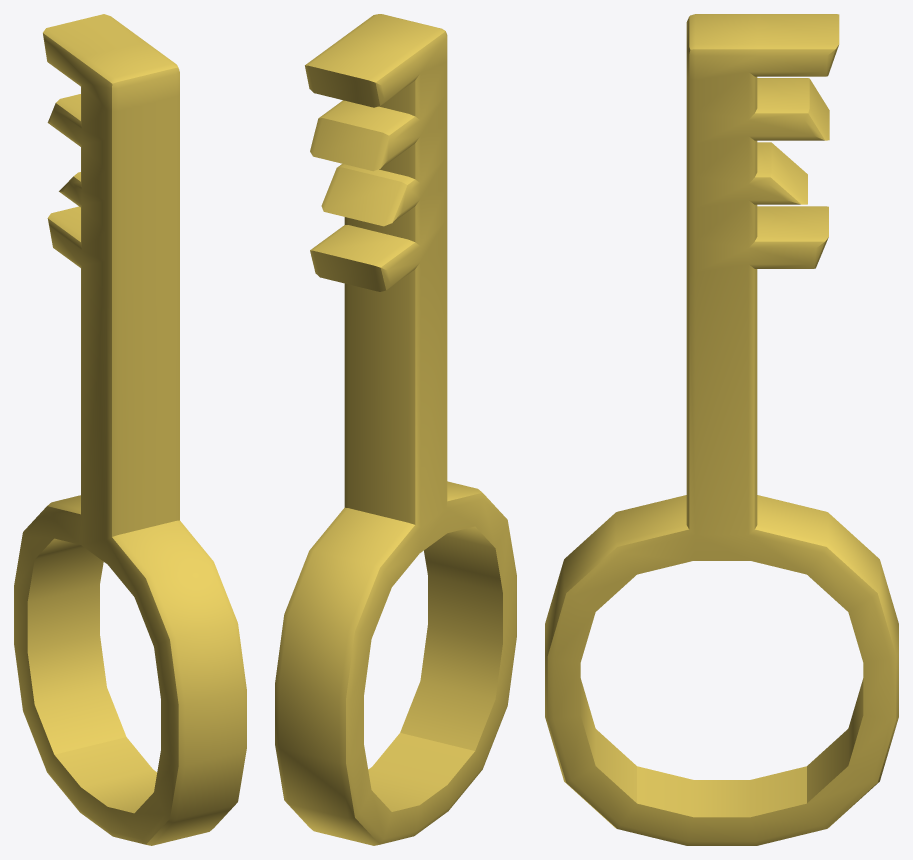
The model's file is key.fbx.
3 views of the same model, side by side, from view 1: azimuth 30°, elevation 25°; view 2: azimuth 150°, elevation 25°; view 3: azimuth 270°, elevation 25° (orthographic). The views are drawn at different scales.
Visible parts, largest first — view 1: Cube; view 2: Cube; view 3: Cube.
Boxes of the visible parts, x1=… form: Cube: x1=14, y1=14, x2=246, y2=845; Cube: x1=275, y1=14, x2=516, y2=845; Cube: x1=545, y1=14, x2=898, y2=845.
Bounding box in the file's own units: 2.5 × 25 × 10.
